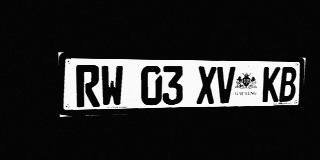0: (141, 66, 162, 106)
3: (162, 66, 183, 105)
B: (279, 67, 297, 102)
K: (262, 67, 280, 102)
R: (76, 65, 100, 107)
V: (216, 66, 235, 103)
W: (100, 65, 123, 107)
X: (196, 66, 216, 104)
